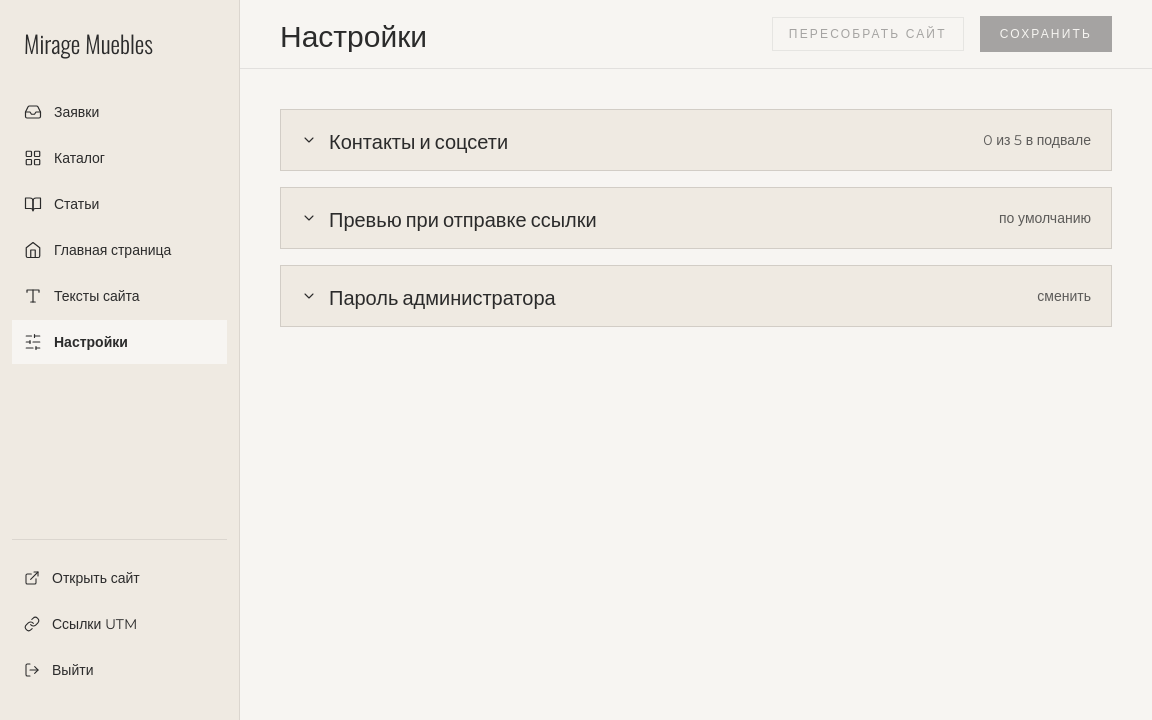
Test: AdminShell sections › changes the password from «Настройки», not only from the login screen
Click the button "Пароль администратора сменить".
click(442, 296)  # box [281,266,1111,326]
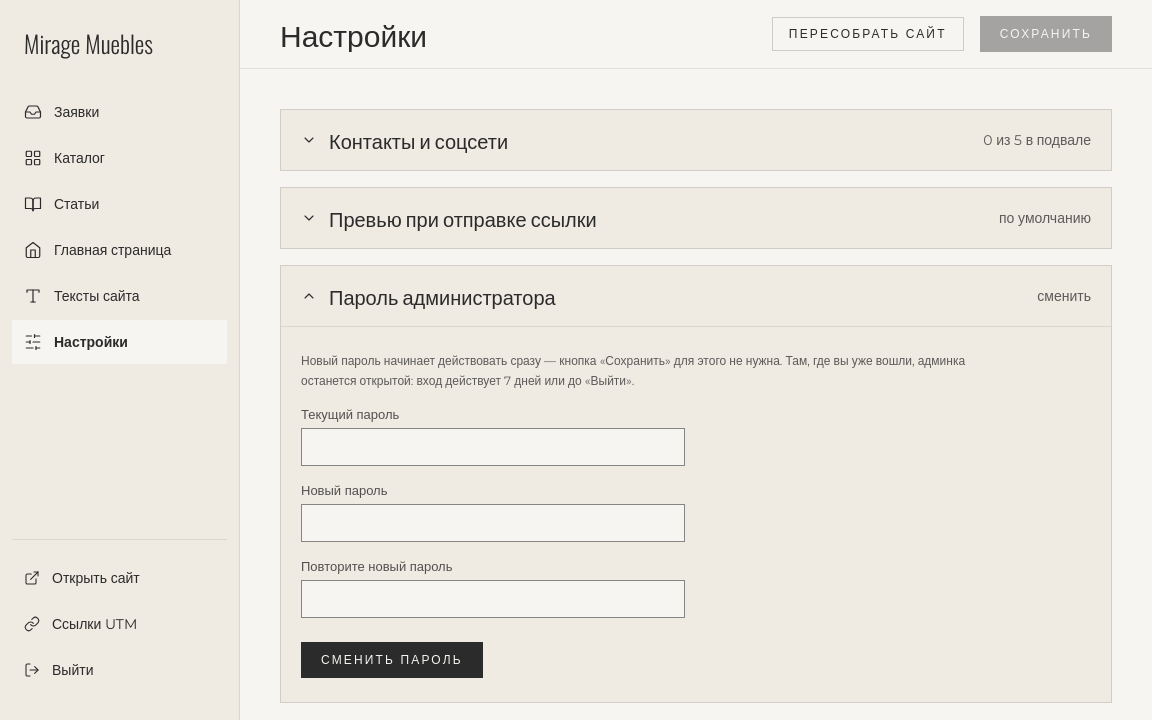
Expected: the password field labelled "Текущий пароль" is shown, [301,428,685,466]
Expected: the button "Сменить пароль" is shown, [301,642,483,678]
